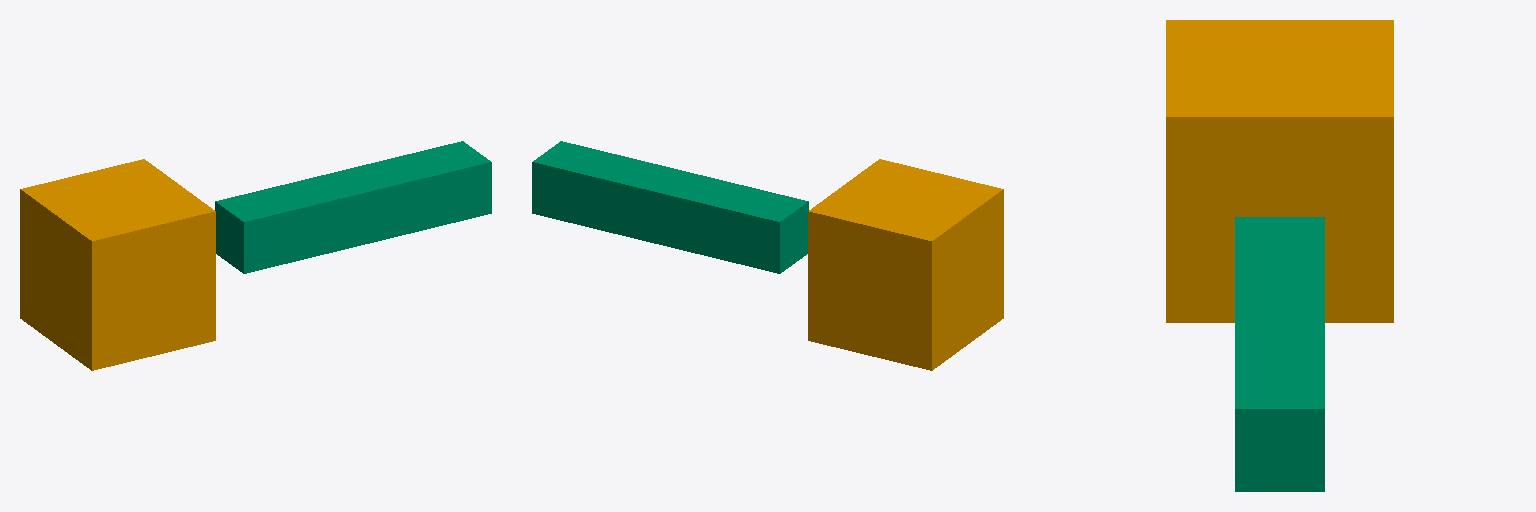
URDF robot description (link_ghost_link_children):
<?xml version="1.0"?>
<robot name="link_ghost_link_children">
  <!-- A `Ghost Link` sits between "BaseLink" and "box_link", and is the parent of a revolute joint. -->
  <!-- The revolute joint targets "BaseLink" on body0, because the ghost link has no rigid body. -->
  <link name="BaseLink">
    <visual>
      <geometry>
        <box size="0.5 0.5 0.5"/>
      </geometry>
    </visual>
    <collision>
      <geometry>
        <box size="0.5 0.5 0.5"/>
      </geometry>
    </collision>
  </link>
  <link name="ghost_link" />
  <link name="box_link">
    <visual>
      <origin rpy="0 0 0" xyz="0.55 0 0"/>
      <geometry>
        <box size="1.0 0.2 0.2"/>
      </geometry>
    </visual>
    <collision>
      <origin rpy="0 0 0" xyz="0.55 0 0"/>
      <geometry>
        <box size="1.0 0.2 0.2"/>
      </geometry>
    </collision>
  </link>

  <joint name="joint1" type="fixed">
    <origin rpy="0 0 0" xyz="0.3 0 0"/>
    <parent link="BaseLink"/>
    <child link="ghost_link"/>
  </joint>
  <joint name="joint2" type="revolute">
    <origin rpy="0 0 0" xyz="0.1 0 0"/>
    <parent link="ghost_link"/>
    <child link="box_link"/>
    <axis xyz="0 1 0"/>
    <limit lower="-0.6" upper="0.6"/>
  </joint>
</robot>

--- Render facts (derived) ---
Views: 3 orthographic renders of the robot side by side, from view 1: azimuth 30°, elevation 25°; view 2: azimuth 150°, elevation 25°; view 3: azimuth 270°, elevation 25°.
Robot: link_ghost_link_children — 3 links, 2 joints (1 revolute, 1 fixed); root link BaseLink; default pose: every joint at zero.
Visible links, largest first — view 1: BaseLink, box_link; view 2: BaseLink, box_link; view 3: BaseLink, box_link.
Boxes of the visible links, left/top/right/bottom form: BaseLink: left=20, top=159, right=215, bottom=370; box_link: left=215, top=141, right=491, bottom=273; BaseLink: left=808, top=159, right=1003, bottom=370; box_link: left=532, top=141, right=808, bottom=273; BaseLink: left=1166, top=20, right=1393, bottom=322; box_link: left=1235, top=217, right=1324, bottom=491.
Bounding box of the posed robot: 1.7 × 0.5 × 0.5 m (x, y, z).
Geometry: primitives only (box / cylinder / sphere), no mesh files.
